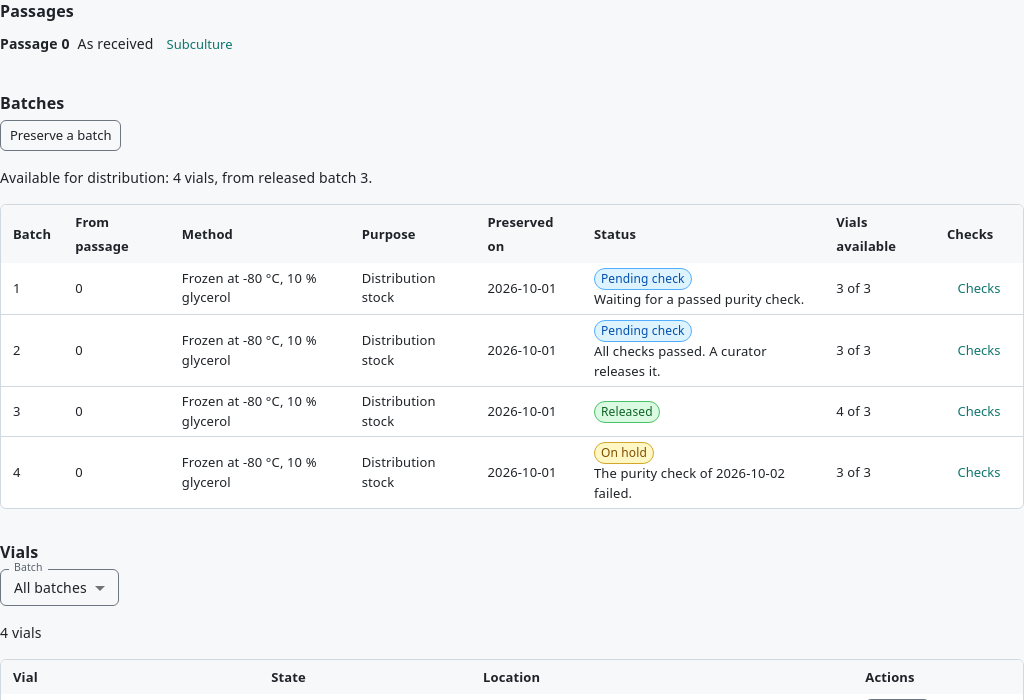
the checks of a batch › says when a batch has no check yet
The width and height of the screenshot is (1024, 700).
Click the button with aria-label "Checks of batch 1".
click(979, 288)  # box [947,273,1011,304]
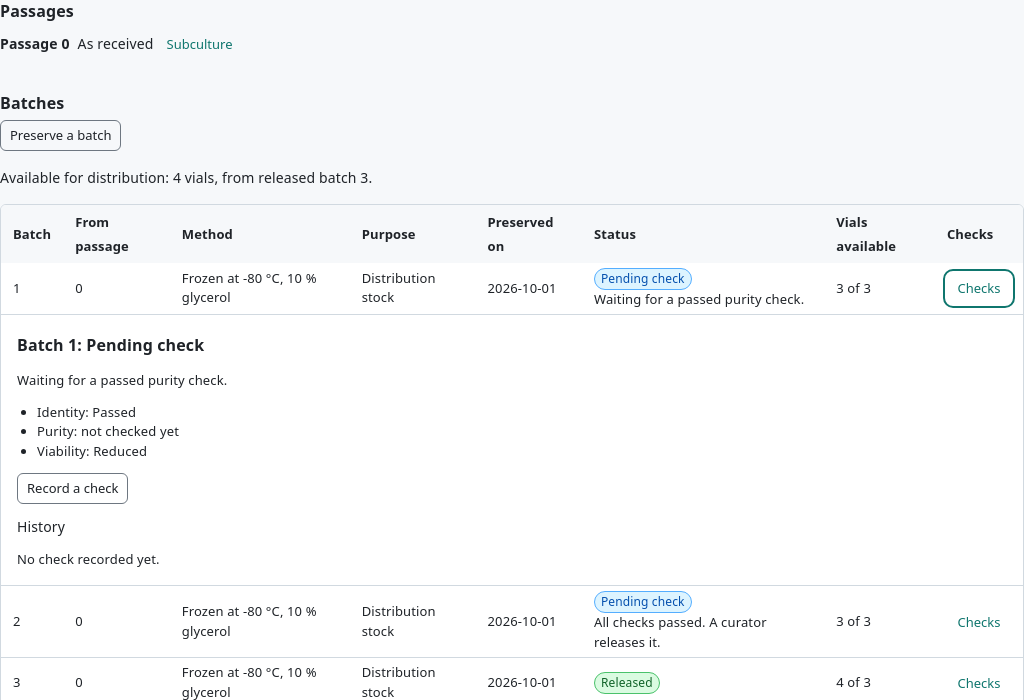
Expected: the text "No check recorded yet." is shown, [17,550,160,568]
